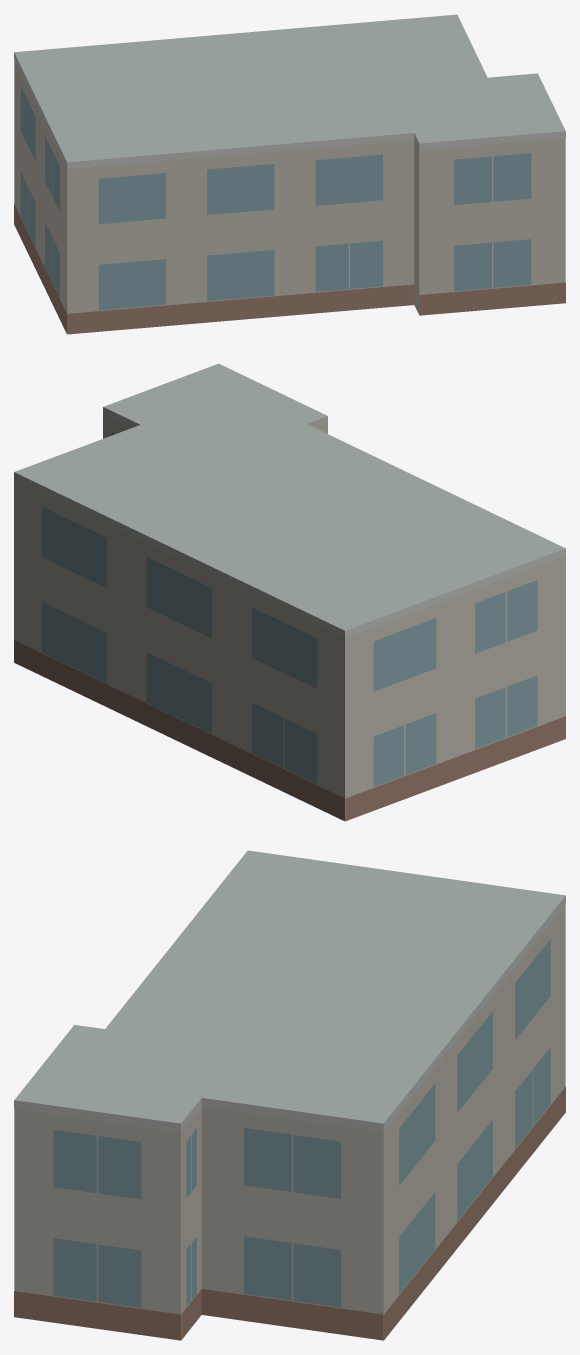
Rendered from survey-upis-32806858.glb.
3 renders of one model, top to bottom at view 1: azimuth 30°, elevation 25°; view 2: azimuth 150°, elevation 25°; view 3: azimuth 270°, elevation 25°, orthographic. The views are drawn at different scales.
Visible parts, largest first — view 1: survey-upis-32806858.tmp; view 2: survey-upis-32806858.tmp; view 3: survey-upis-32806858.tmp.
Part boxes in pixels (bbox=[...]): survey-upis-32806858.tmp: bbox=[14, 14, 565, 334]; survey-upis-32806858.tmp: bbox=[14, 363, 565, 821]; survey-upis-32806858.tmp: bbox=[14, 850, 565, 1340].
Size of the model in its own units: 16.49 by 6.1 by 14.07.
